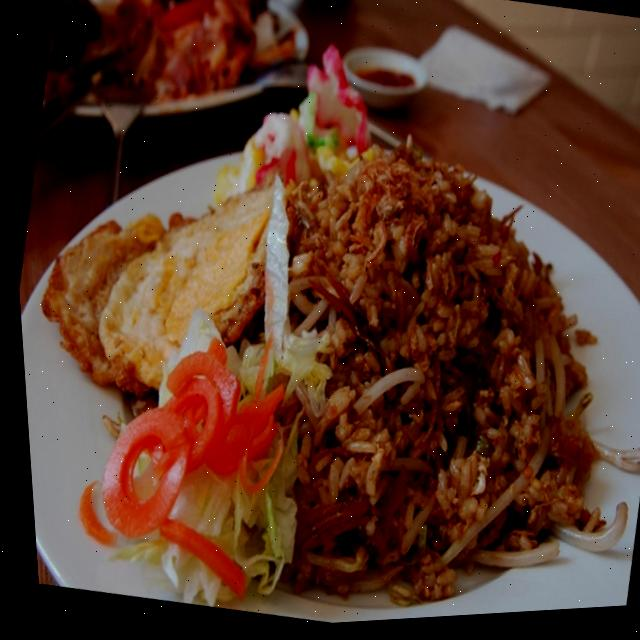米饭主食: (3, 36, 640, 640)
